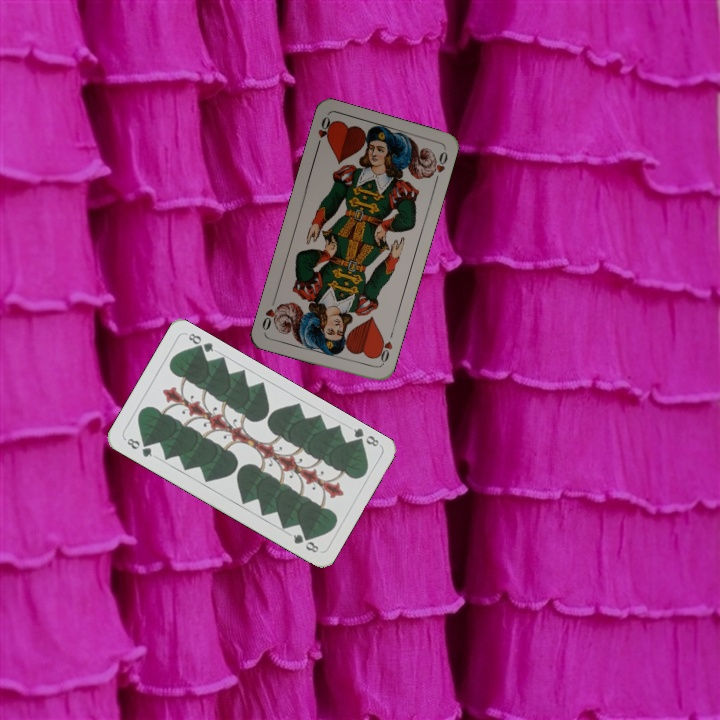G8: (121, 434, 155, 460), (349, 424, 382, 449)
HO: (312, 112, 336, 152), (373, 328, 396, 368)
